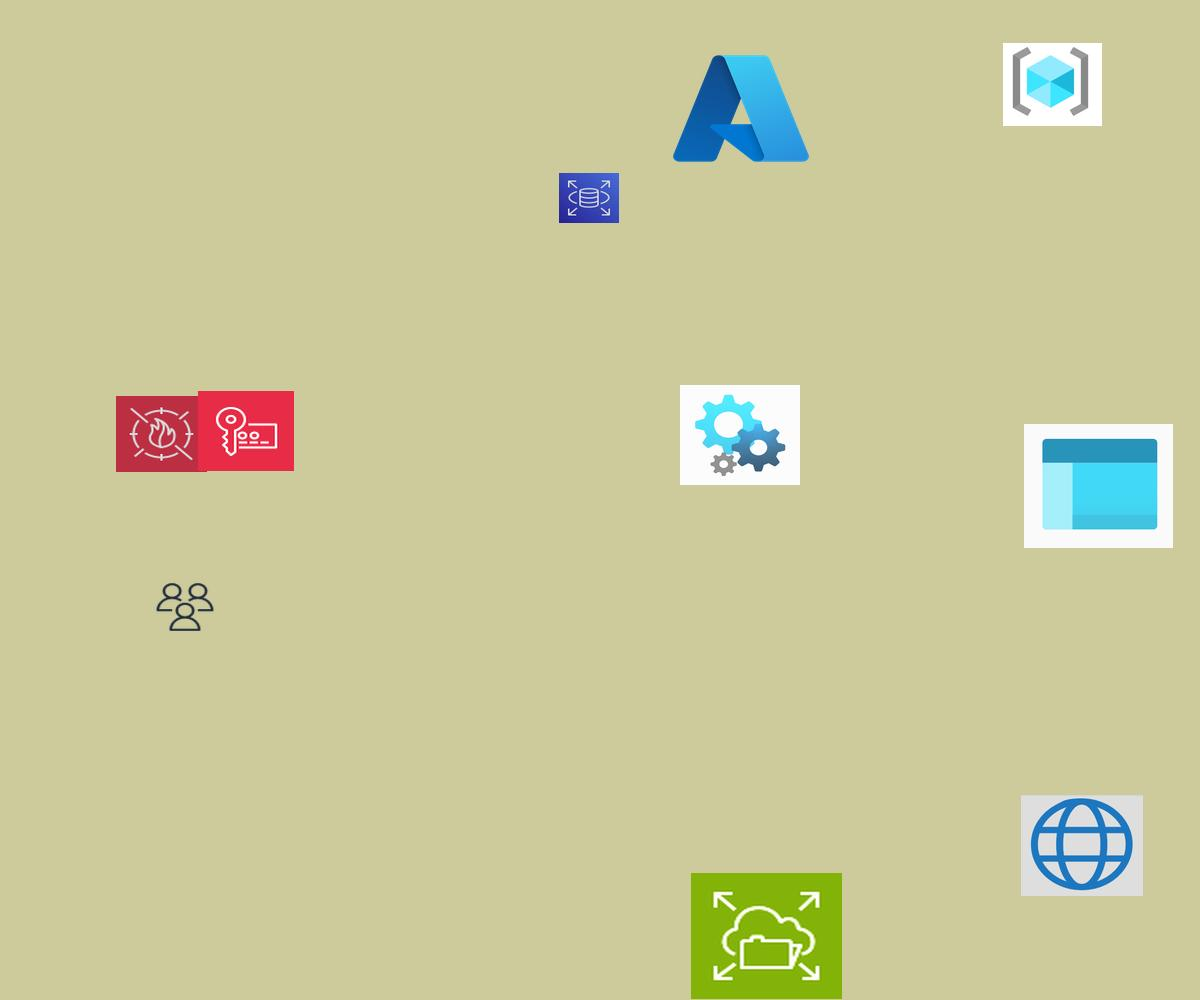AWS-EFS: (691, 873, 842, 999)
AWS-Key-Management-Service: (198, 391, 294, 471)
AWS-RDS: (559, 173, 619, 223)
AWS-Res_Users: (154, 581, 216, 633)
AWS-WAF: (116, 396, 207, 472)
Azure_api: (680, 385, 800, 485)
Azure_http: (1021, 795, 1143, 896)
Azure_management-portal: (1024, 424, 1173, 548)
Azure_resource_group: (1003, 43, 1102, 126)
Azure_services: (667, 47, 815, 170)
